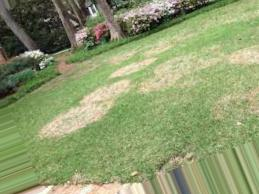patch: (167, 65, 193, 76), (63, 115, 94, 124), (88, 99, 105, 110), (238, 53, 257, 60), (128, 66, 137, 71)
